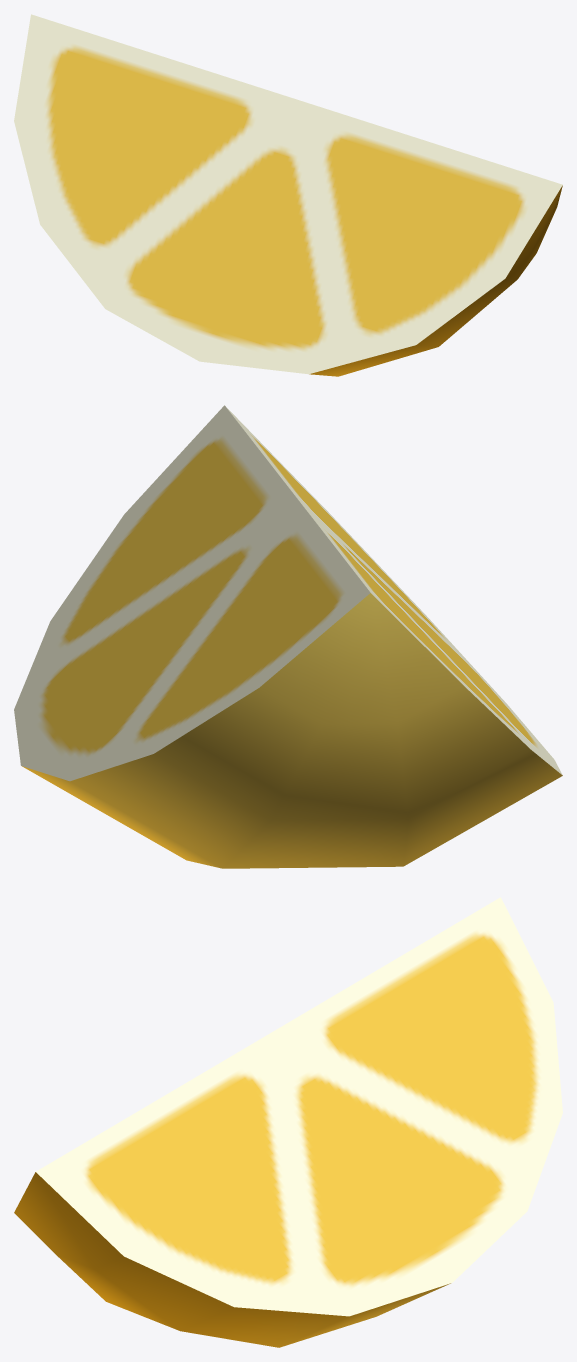
The model's file is m_LemonCake01_Deco.fbx.
3 views of the same model, one above another, from view 1: azimuth 30°, elevation 25°; view 2: azimuth 150°, elevation 25°; view 3: azimuth 270°, elevation 25° (orthographic). The views are drawn at different scales.
Parts seen in each view (by area): view 1: m_LemonCake01_Deco; view 2: m_LemonCake01_Deco; view 3: m_LemonCake01_Deco.
Part boxes in pixels (box(x1,y1,x2,y2)): m_LemonCake01_Deco: box(14, 14, 562, 376); m_LemonCake01_Deco: box(14, 405, 562, 868); m_LemonCake01_Deco: box(14, 897, 562, 1347).
Size of the model in its own units: 6.31 by 4.32 by 6.59.
